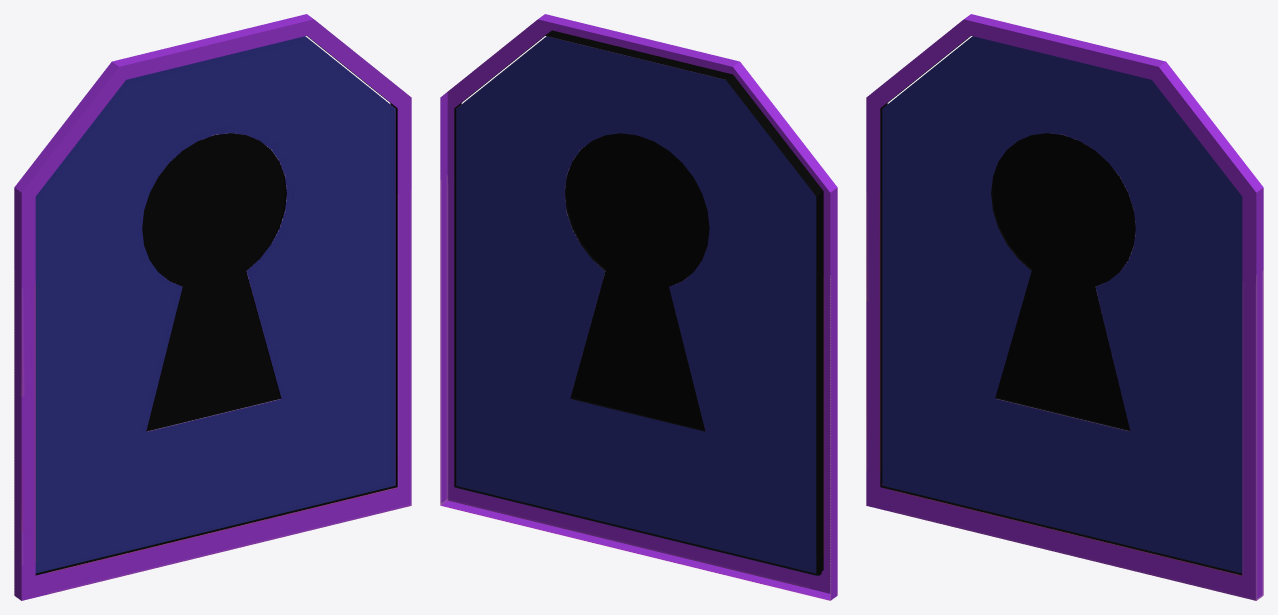
The model's file is Tutorial End Door2.FBX.
3 renders of one model, left to right at view 1: azimuth 30°, elevation 25°; view 2: azimuth 150°, elevation 25°; view 3: azimuth 330°, elevation 25°, orthographic.
Visible parts, largest first — view 1: Door, DoorFrame, Keyhole; view 2: Door, DoorFrame, Keyhole; view 3: Door, DoorFrame, Keyhole.
Part boxes in pixels (<box>): Door: <box>35,36,395,573</box>; DoorFrame: <box>14,14,411,600</box>; Keyhole: <box>142,133,285,429</box>; Door: <box>456,36,821,576</box>; DoorFrame: <box>440,14,837,600</box>; Keyhole: <box>566,133,709,430</box>; Door: <box>882,36,1242,573</box>; DoorFrame: <box>866,14,1263,600</box>; Keyhole: <box>992,133,1135,429</box>.
Size of the model in its own units: 94.49 by 118 by 3.06.
Materials: 1 (1 with a texture image).
